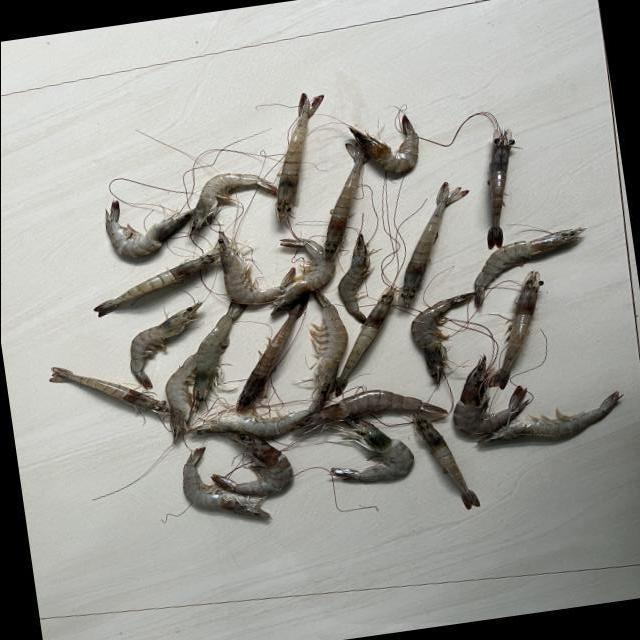shrimp: (474, 227, 584, 308), (92, 248, 219, 317), (398, 182, 468, 306), (235, 296, 306, 412), (477, 392, 623, 444), (334, 287, 395, 397), (488, 271, 543, 389), (128, 302, 201, 389), (181, 448, 268, 521), (413, 416, 480, 510), (275, 93, 323, 221), (453, 357, 530, 436), (410, 293, 473, 384), (297, 390, 447, 428), (188, 173, 276, 237), (192, 301, 243, 411), (322, 141, 369, 260), (48, 367, 167, 414), (329, 419, 413, 482), (210, 433, 291, 498), (103, 201, 193, 257), (270, 238, 334, 316), (216, 231, 281, 304), (194, 401, 318, 439), (308, 289, 347, 408), (347, 114, 418, 172), (487, 129, 514, 249), (337, 234, 372, 324), (164, 355, 195, 444)
